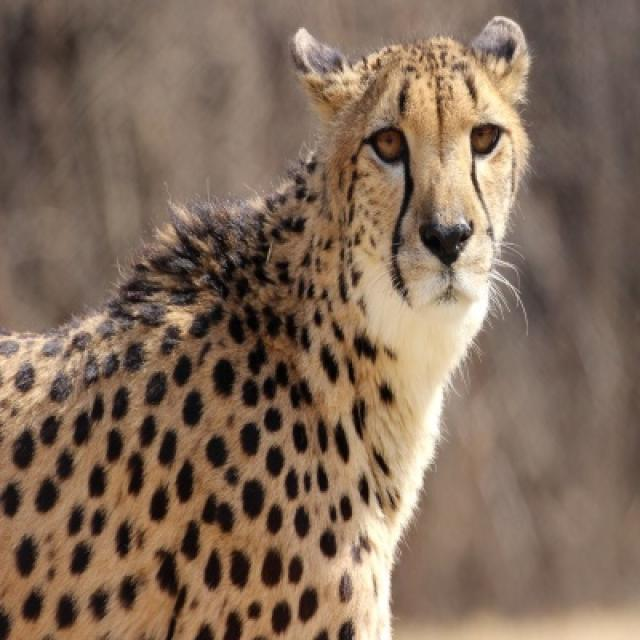Cheetah: (0, 16, 533, 638)
